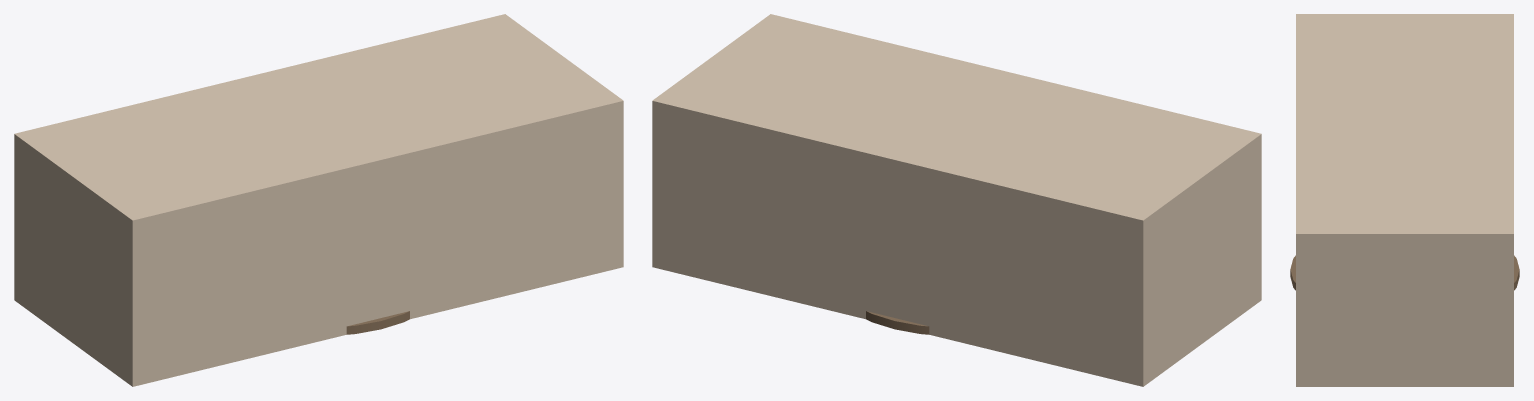
The model's file is solstice-cloud-sofa.glb.
3 renders of one model, left to right at view 1: azimuth 30°, elevation 25°; view 2: azimuth 150°, elevation 25°; view 3: azimuth 270°, elevation 25°, orthographic. The views are drawn at different scales.
Visible parts, largest first — view 1: solstice-cloud-sofa-placeholder, solstice-cloud-sofa-plinth; view 2: solstice-cloud-sofa-placeholder, solstice-cloud-sofa-plinth; view 3: solstice-cloud-sofa-placeholder, solstice-cloud-sofa-plinth.
Boxes of the visible parts, bbox=[...] form: solstice-cloud-sofa-placeholder: bbox=[14, 14, 623, 386]; solstice-cloud-sofa-plinth: bbox=[346, 311, 409, 334]; solstice-cloud-sofa-placeholder: bbox=[652, 14, 1261, 386]; solstice-cloud-sofa-plinth: bbox=[866, 311, 929, 334]; solstice-cloud-sofa-placeholder: bbox=[1296, 14, 1513, 386]; solstice-cloud-sofa-plinth: bbox=[1290, 255, 1519, 290].
Size of the model in its own units: 2.44 by 0.79 by 1.07.
